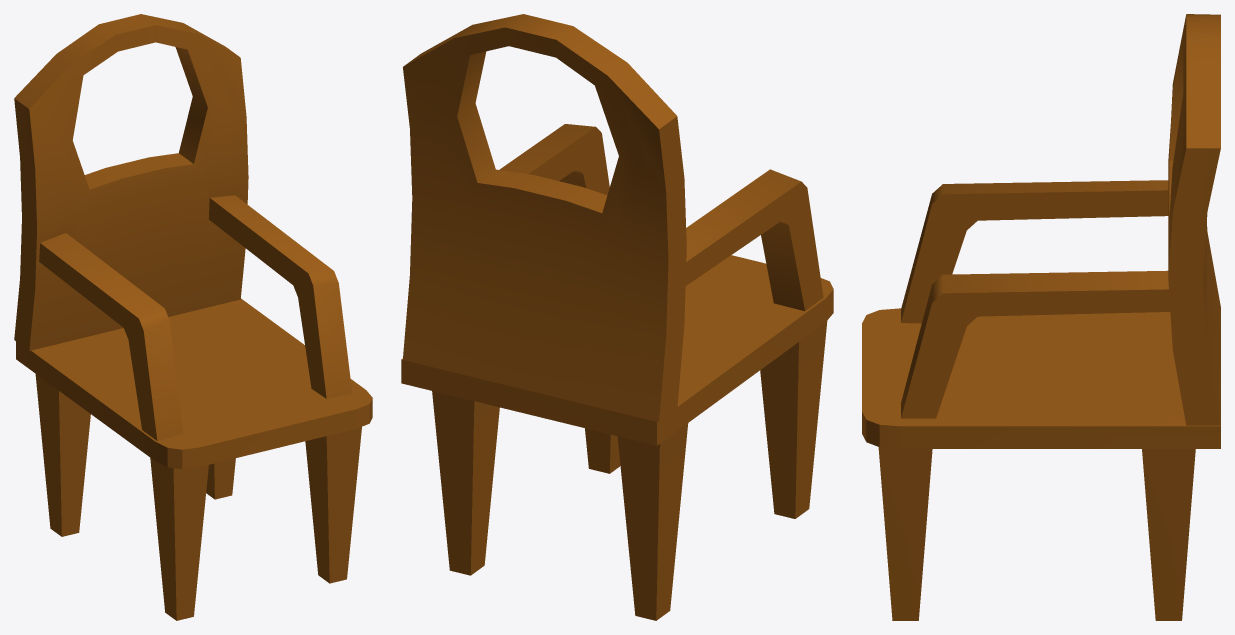
The model's file is Chair.FBX.
3 views of the same model, side by side, from view 1: azimuth 30°, elevation 25°; view 2: azimuth 150°, elevation 25°; view 3: azimuth 270°, elevation 25° (orthographic). The views are drawn at different scales.
Visible parts, largest first — view 1: Chair; view 2: Chair; view 3: Chair.
Part boxes in pixels (left/top/right/bottom): Chair: left=14, top=14, right=372, bottom=620; Chair: left=401, top=14, right=833, bottom=620; Chair: left=862, top=14, right=1220, bottom=620.
Bounding box in the file's own units: 37.79 × 80.8 × 48.14.
1 material, 1 textured.
